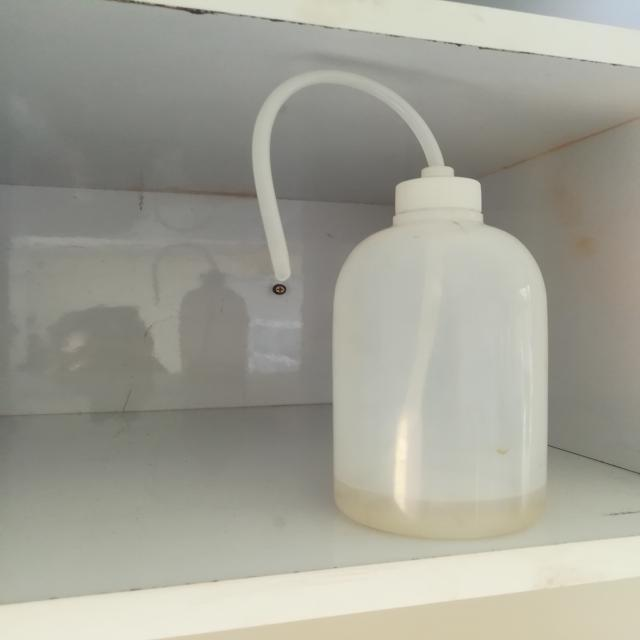Wash_Bottle: (209, 32, 583, 559)
